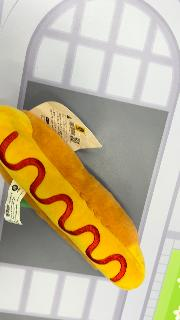hotdog: (1, 105, 146, 291)
